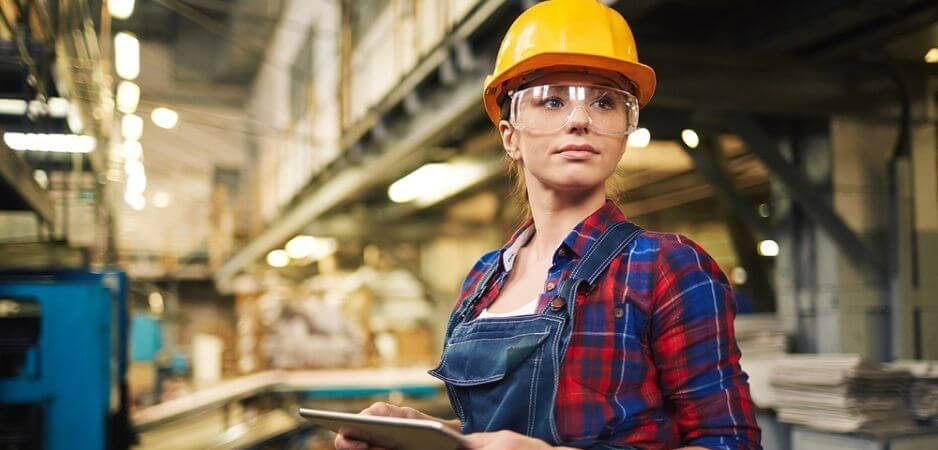helmet: (480, 0, 658, 128)
no_wear: (446, 238, 753, 450)
